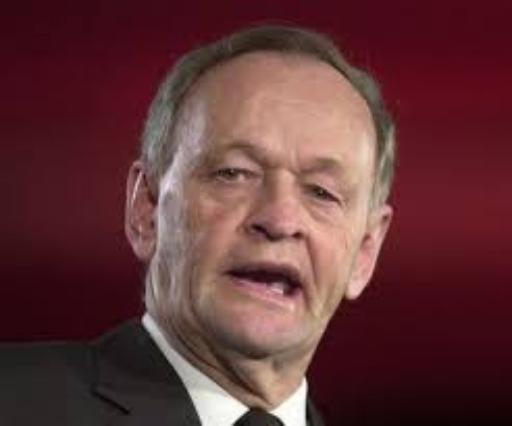left_eye: (302, 184, 344, 205)
left_lip_corner: (295, 276, 311, 299)
right_eye: (207, 168, 259, 188)
right_lip_corner: (215, 265, 240, 287)
